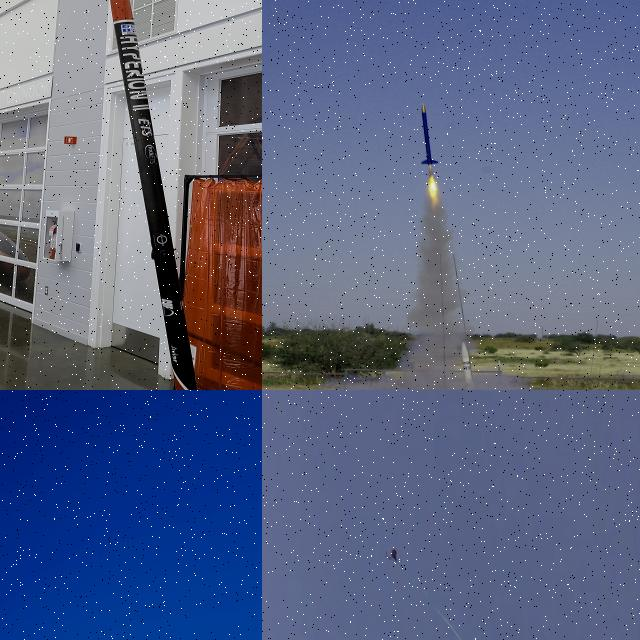Rocket: (111, 0, 198, 390), (421, 103, 439, 166), (460, 340, 478, 390)
